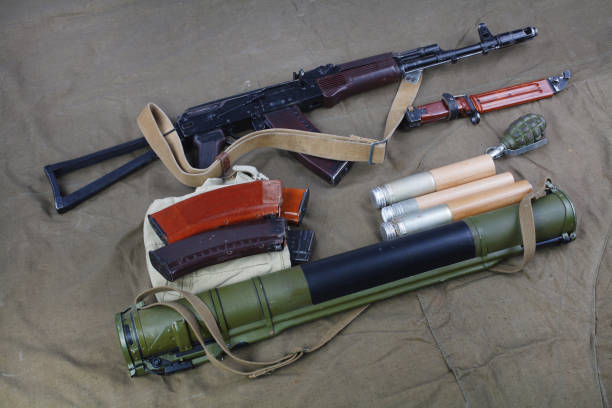e1: (493, 113, 550, 158)
